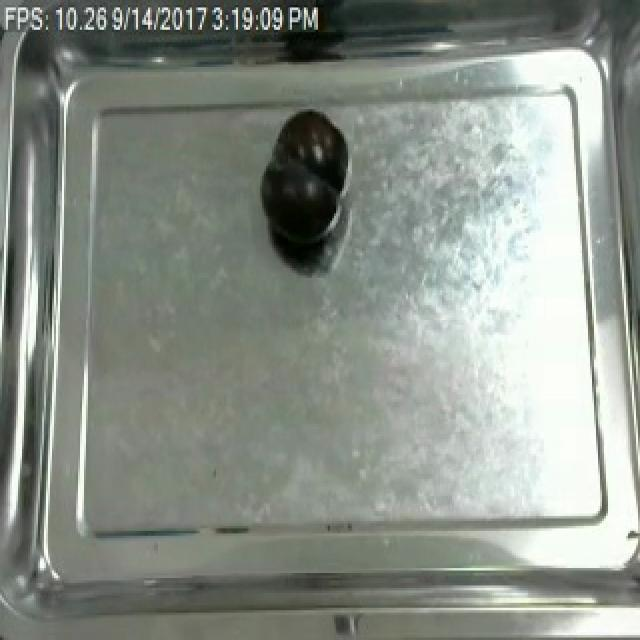Fruit: (256, 107, 350, 256)
